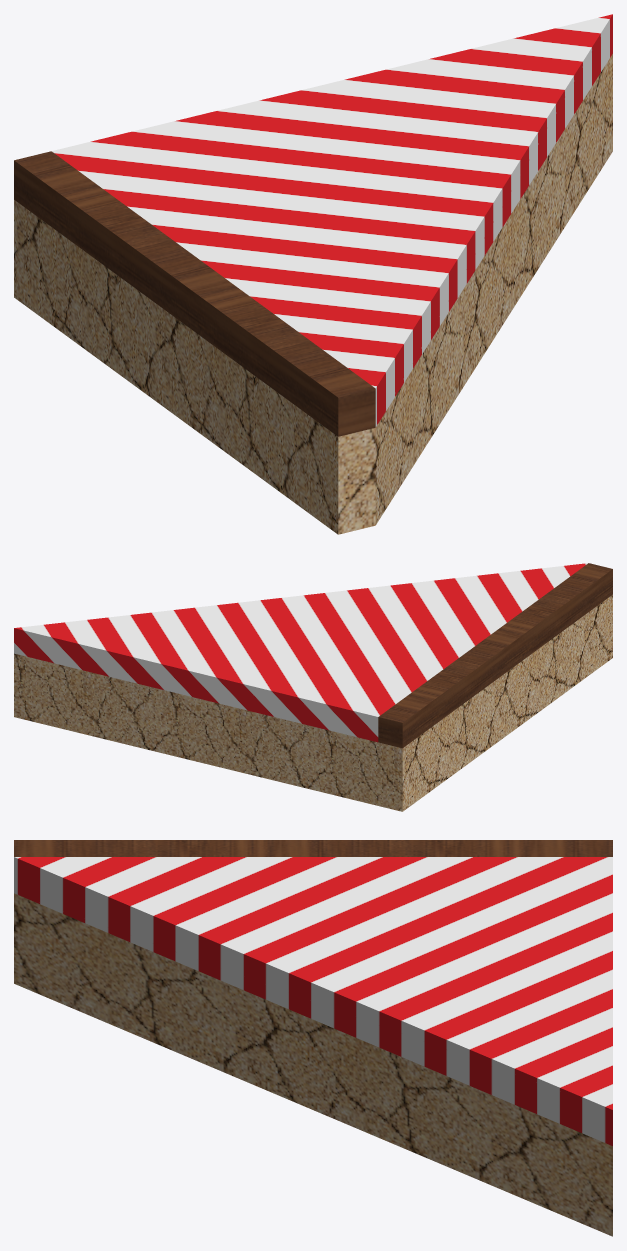
File: MovingWall4.gltf
The picture shows the model from 3 angles, top to bottom: view 1: azimuth 30°, elevation 25°; view 2: azimuth 150°, elevation 25°; view 3: azimuth 270°, elevation 25°; orthographic projection. The views are drawn at different scales.
Visible parts, largest first — view 1: Cube.001; view 2: Cube.001; view 3: Cube.001.
Boxes of the visible parts, <box> form: Cube.001: <box>14,14,612,534</box>; Cube.001: <box>14,563,612,811</box>; Cube.001: <box>14,840,612,1236</box>.
Bounding box in the file's own units: 3.2 × 0.7 × 3.
6 materials, 6 textured.
